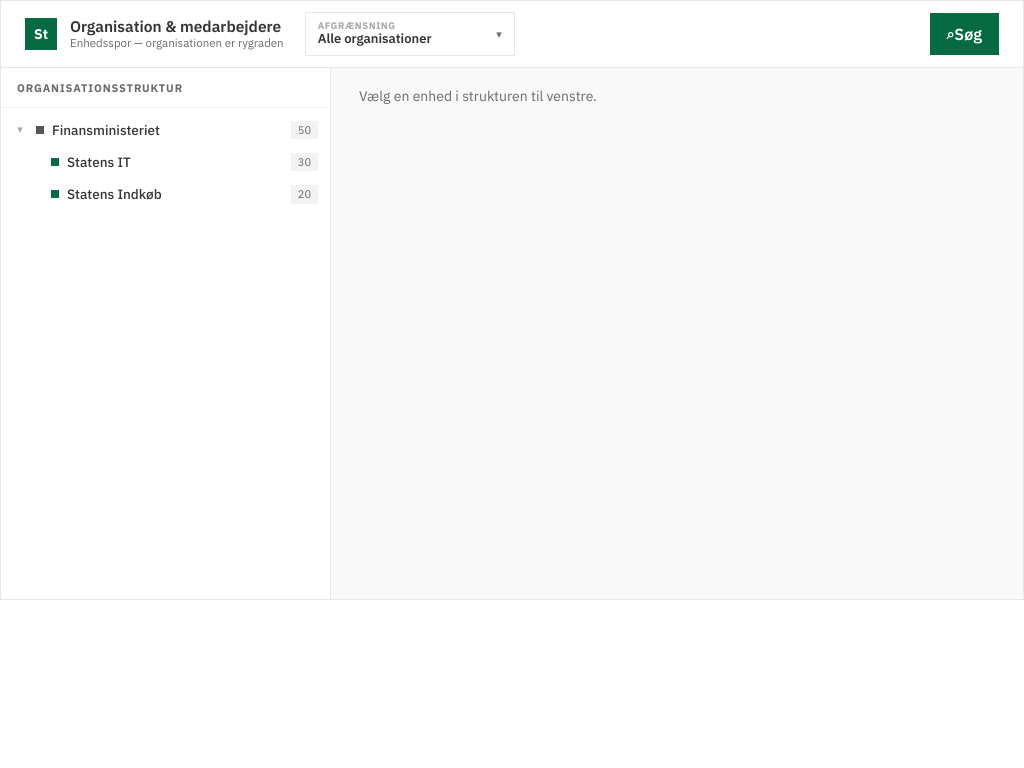
Test: OrganisationOgMedarbejdere — page (shell + Afgrænsning + search) › the Søg button opens the overlay; Esc closes it
Step 1. Click the button with test id "soeg-button" → [964, 34], box [930,13,999,55]
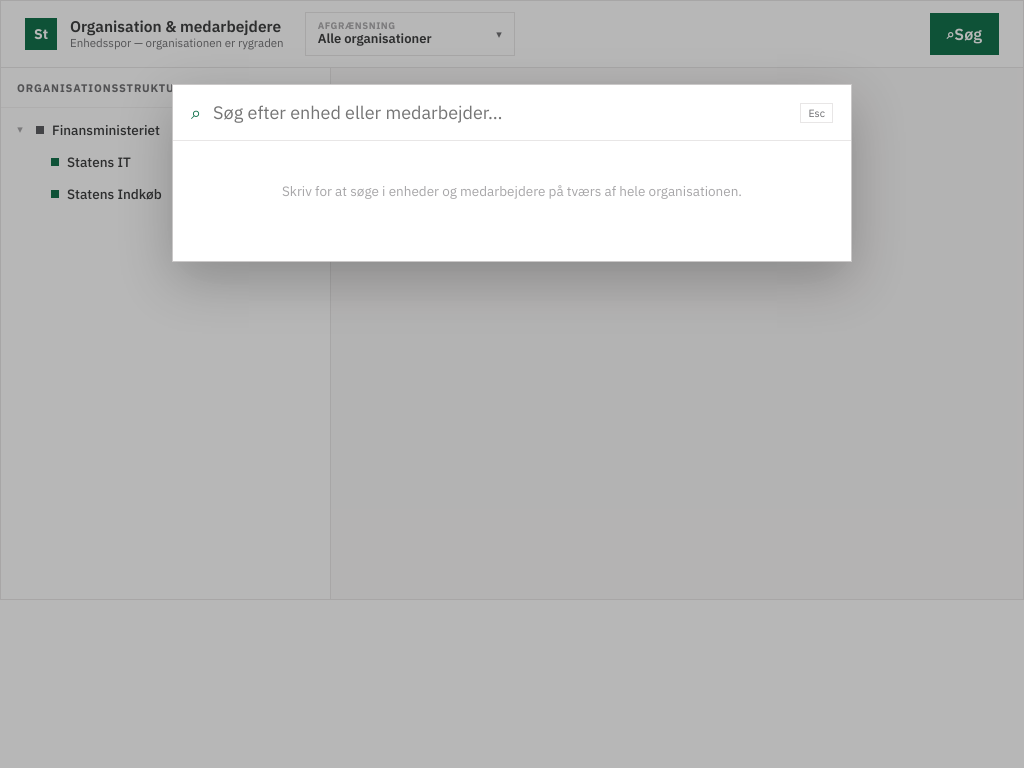
Check: the element with test id "search-overlay" is shown
Step 2. Press Escape
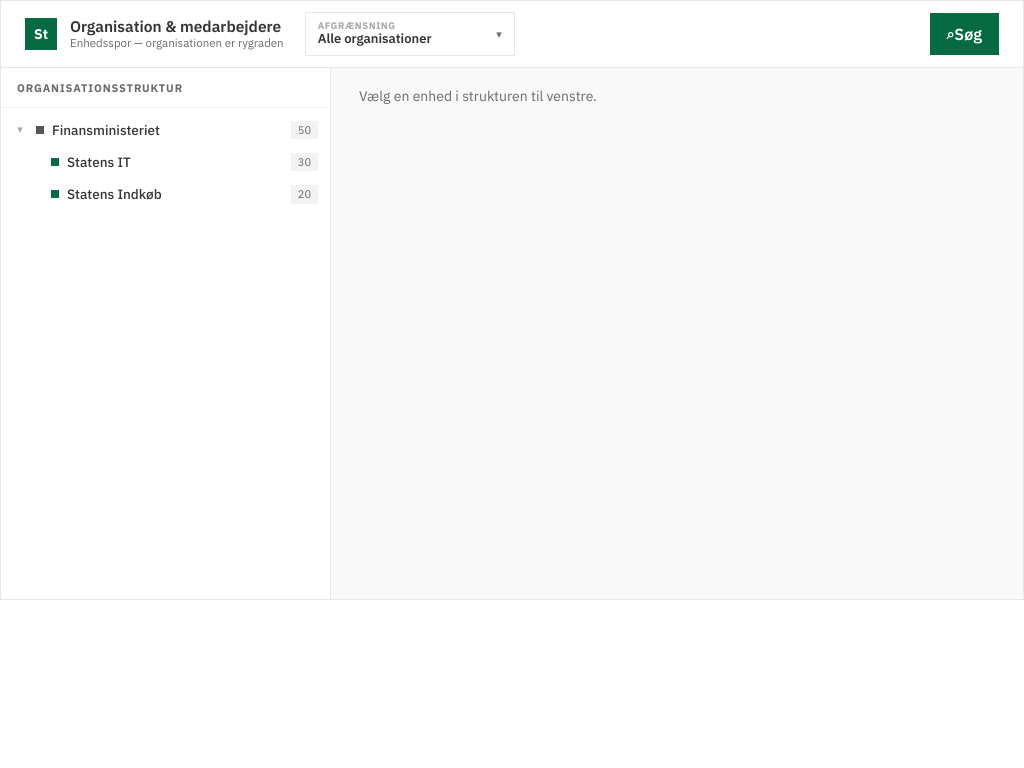
Check: the element with test id "search-overlay" is gone
